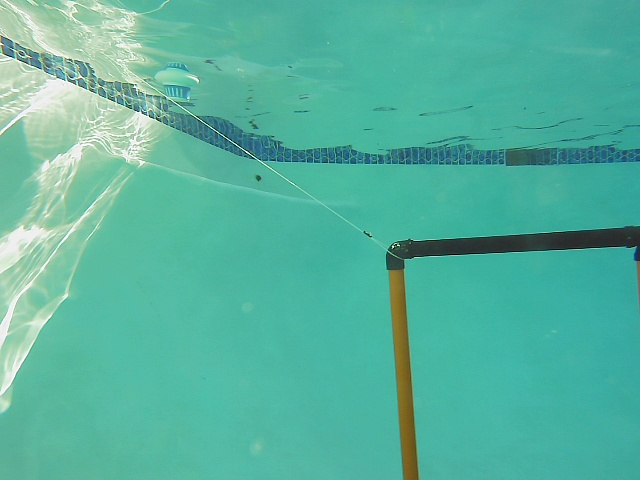Gate: (382, 231, 640, 476)
